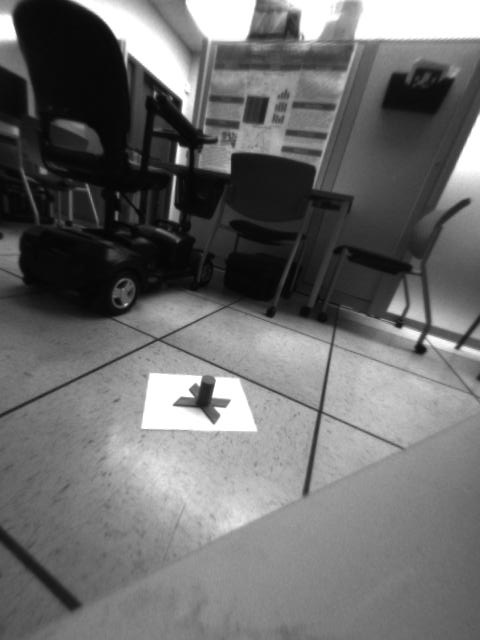X: (173, 374, 231, 426)
